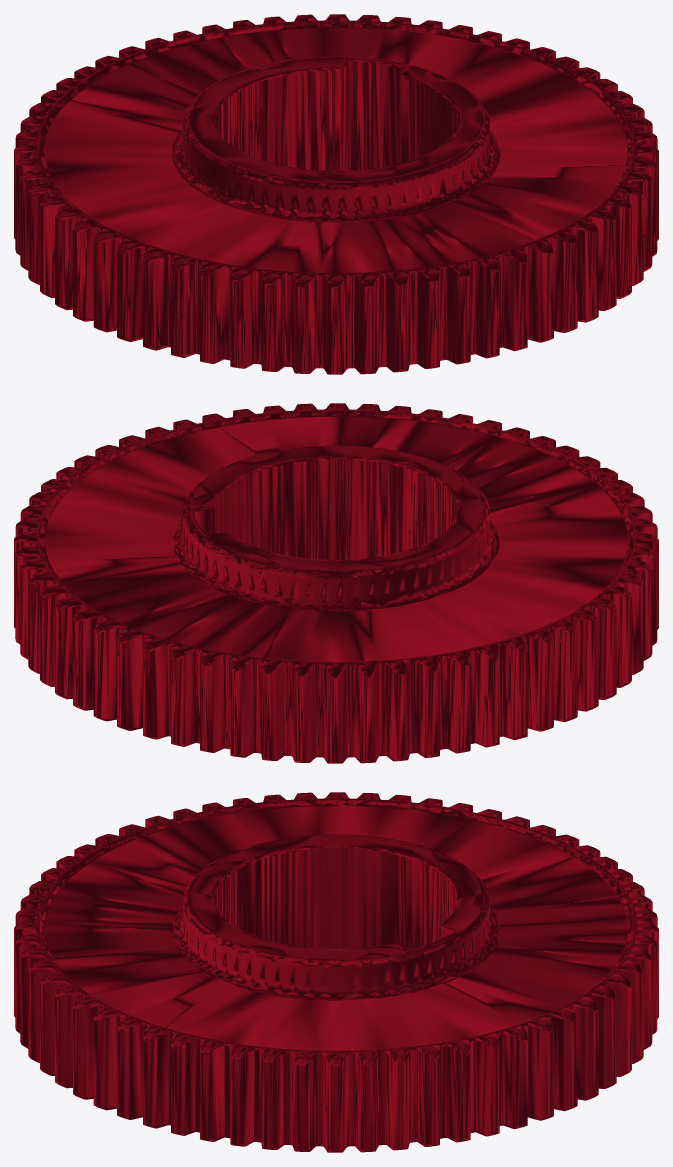
Rendered from Gear_red.obj.
The picture shows the model from 3 angles, top to bottom: view 1: azimuth 30°, elevation 25°; view 2: azimuth 150°, elevation 25°; view 3: azimuth 270°, elevation 25°; orthographic projection.
Parts seen in each view (by area): view 1: Gear2; view 2: Gear2; view 3: Gear2.
Boxes of the visible parts, bbox=[...] form: Gear2: bbox=[14, 14, 658, 374]; Gear2: bbox=[14, 403, 658, 763]; Gear2: bbox=[14, 792, 658, 1152].
Bounding box in the file's own units: 18.14 × 3.93 × 18.14.
Materials: 1 (1 with a texture image).
